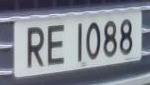0: (84, 18, 103, 65)
1: (73, 20, 88, 67)
8: (102, 16, 119, 63), (118, 15, 135, 61)
E: (45, 20, 68, 70)
R: (24, 21, 47, 73)
